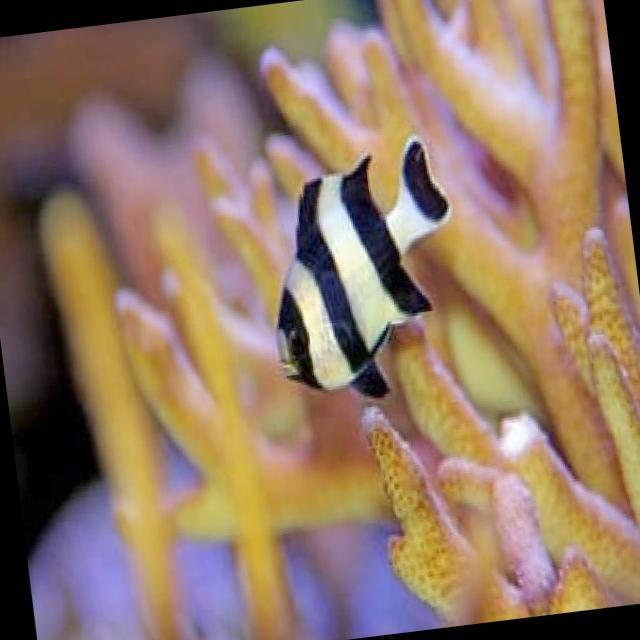Three_striped DasmselFish: (246, 132, 476, 411)
